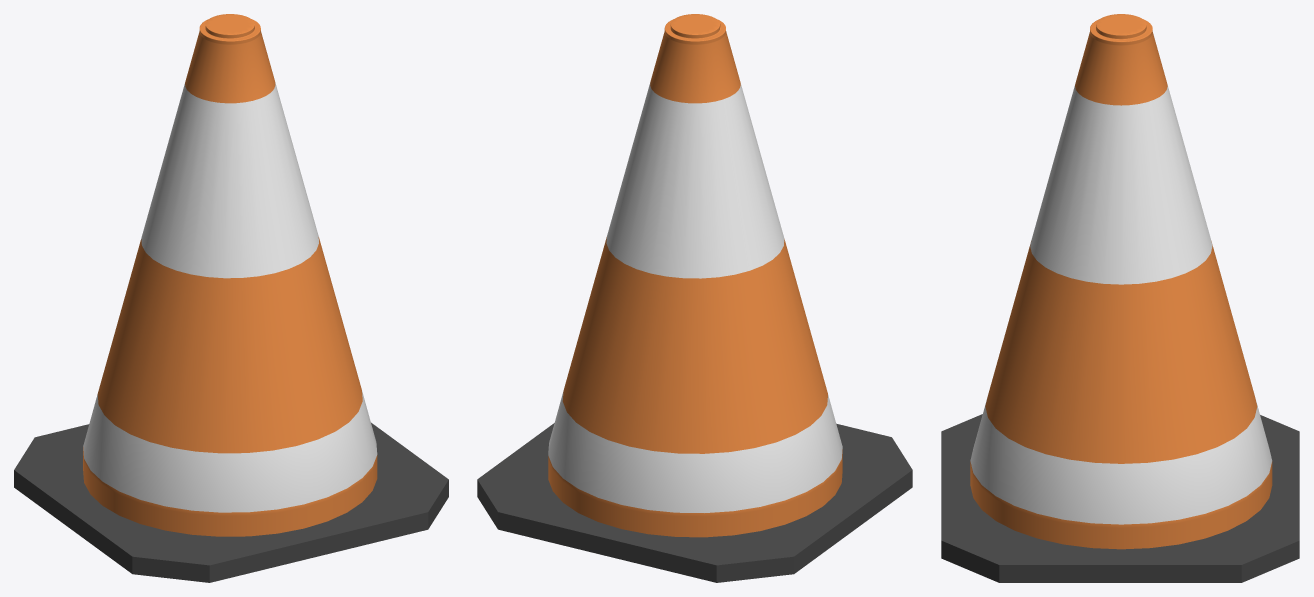
3 views of the same model, side by side, from view 1: azimuth 30°, elevation 25°; view 2: azimuth 150°, elevation 25°; view 3: azimuth 270°, elevation 25° (orthographic). The views are drawn at different scales.
Parts seen in each view (by area): view 1: Cylinder001_Material #77_0; view 2: Cylinder001_Material #77_0; view 3: Cylinder001_Material #77_0.
Boxes of the visible parts, x1,y1,x2,y2 form: Cylinder001_Material #77_0: (14, 14, 448, 582); Cylinder001_Material #77_0: (477, 14, 912, 582); Cylinder001_Material #77_0: (941, 14, 1299, 582).
Size of the model in its own units: 0.3512 by 0.4961 by 0.3363.
